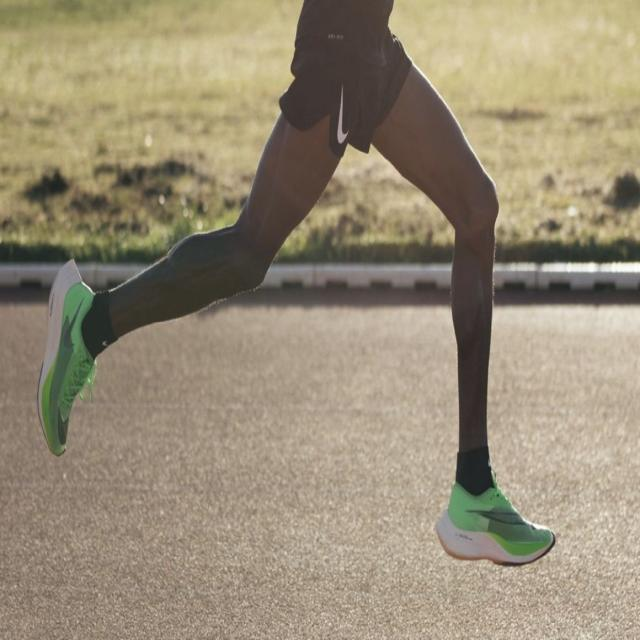nike: (60, 286, 87, 351), (334, 79, 351, 153)
